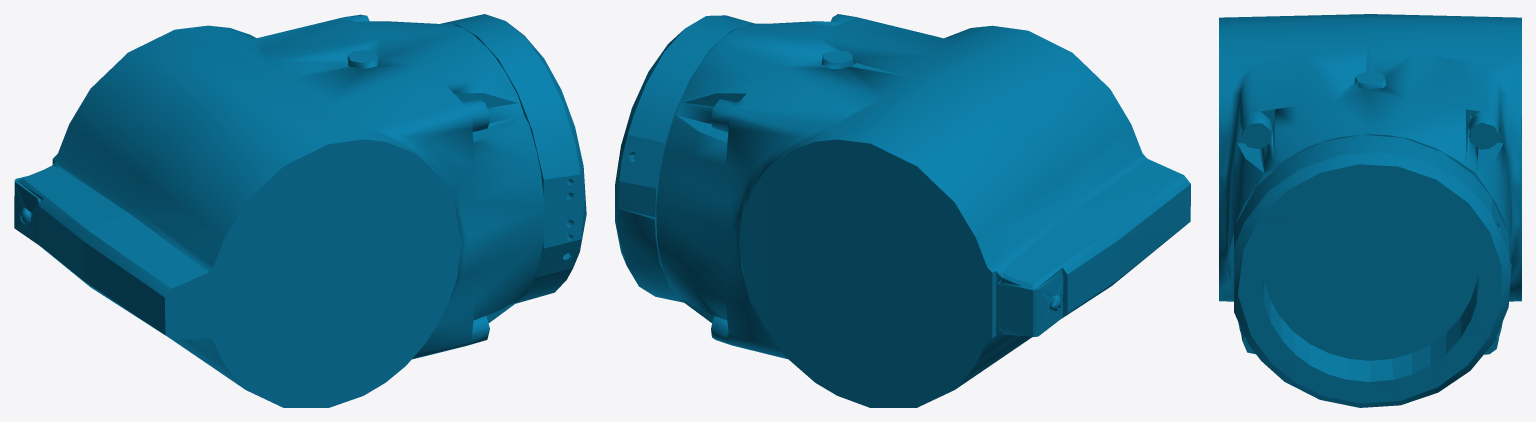
The picture shows the model from 3 angles, left to right: view 1: azimuth 30°, elevation 25°; view 2: azimuth 150°, elevation 25°; view 3: azimuth 270°, elevation 25°; orthographic projection. The views are drawn at different scales.
Parts seen in each view (by area): view 1: link_5_b; view 2: link_5_b; view 3: link_5_b.
Part boxes in pixels (x1,y1,x2,y2): link_5_b: (14,14,586,407); link_5_b: (615,14,1190,407); link_5_b: (1219,14,1521,407).
Size of the model in its own units: 0.1657 by 0.102 by 0.1.
